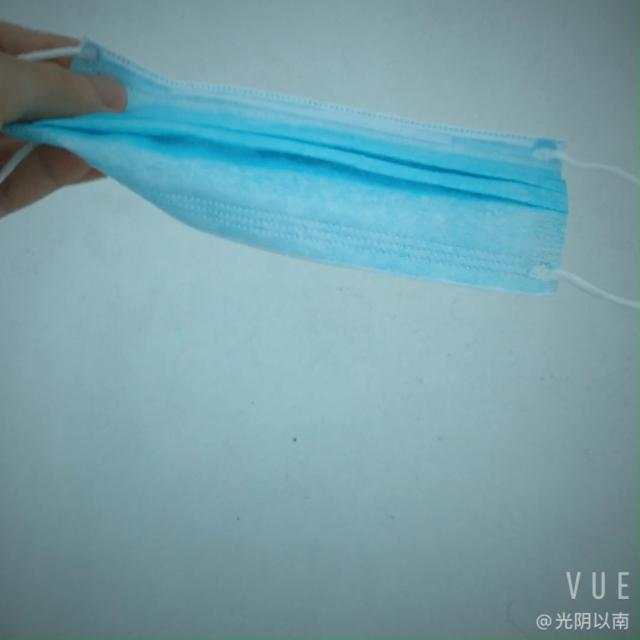face mask: (97, 109, 548, 284)
